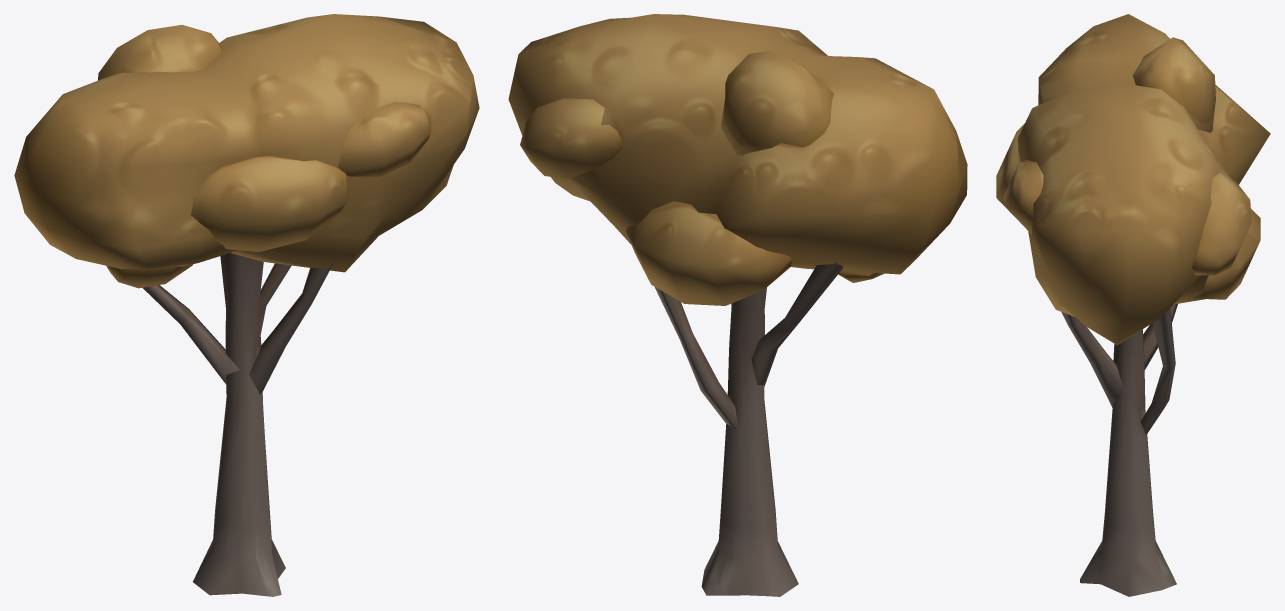
Rendered from tree_02_mesh.fbx.
3 renders of one model, left to right at view 1: azimuth 30°, elevation 25°; view 2: azimuth 150°, elevation 25°; view 3: azimuth 270°, elevation 25°, orthographic. The views are drawn at different scales.
Visible parts, largest first — view 1: tree_02; view 2: tree_02; view 3: tree_02.
Part boxes in pixels (x1,y1,x2,y2): tree_02: (14, 14, 479, 596); tree_02: (508, 14, 967, 596); tree_02: (996, 14, 1270, 596).
Bounding box in the file's own units: 261 × 315 × 154.
